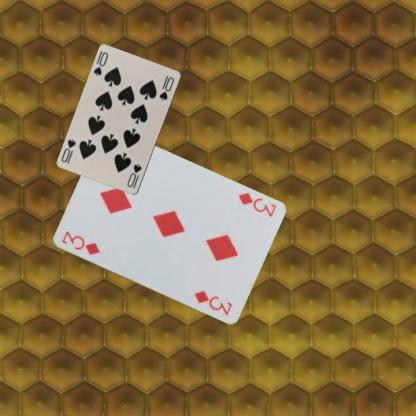10s: (90, 50, 110, 77), (125, 162, 143, 190)
3d: (59, 228, 100, 257), (235, 190, 277, 218)
